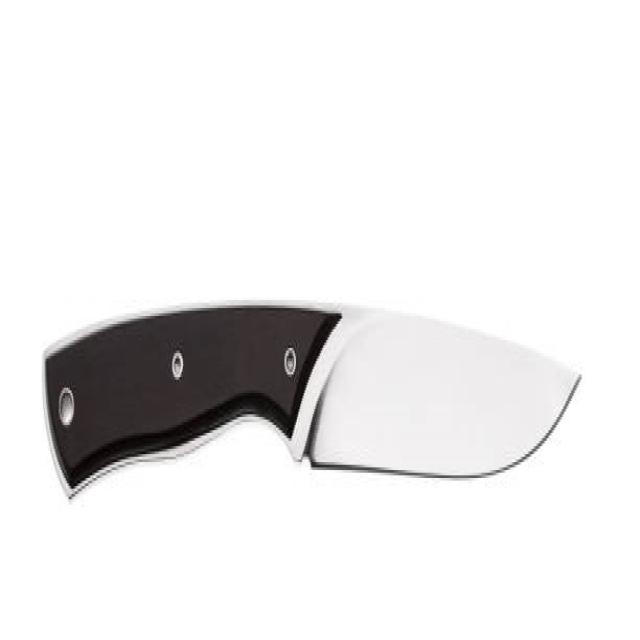knife: (38, 274, 590, 534)
